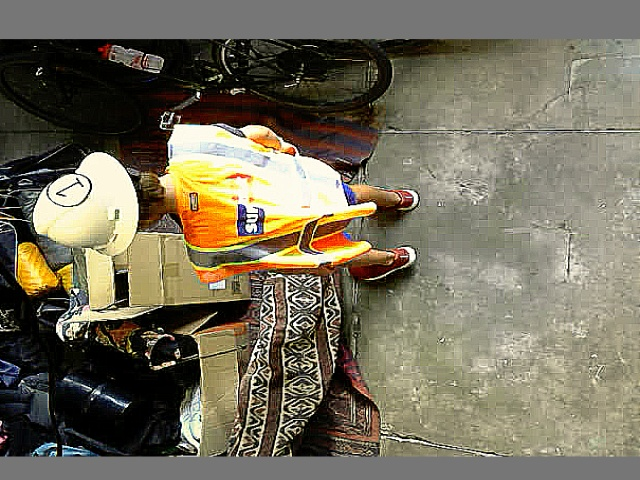one: (45, 172, 89, 206)
